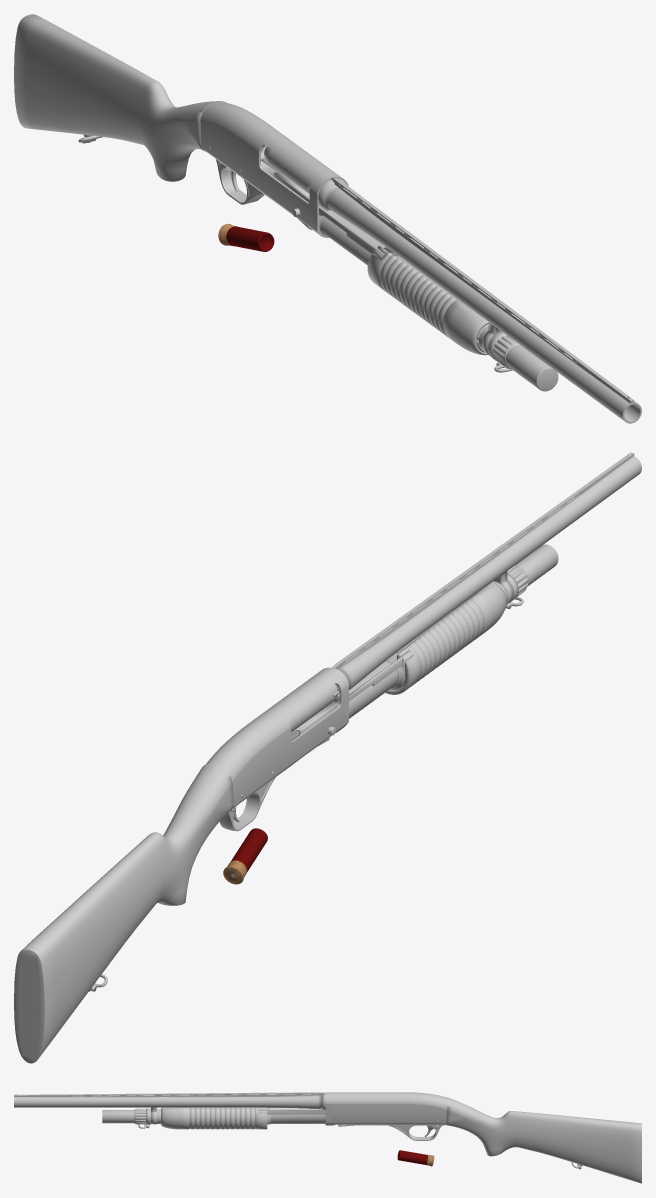
File: Shotgun.fbx
The picture shows the model from 3 angles, top to bottom: view 1: azimuth 30°, elevation 25°; view 2: azimuth 150°, elevation 25°; view 3: azimuth 270°, elevation 25°; orthographic projection. The views are drawn at different scales.
Visible parts, largest first — view 1: Object123, Object129, Object001; view 2: Object123, Object129, Object001; view 3: Object123, Object129, Object001.
Boxes of the visible parts, box(x1,y1,x2,y2) form: Object123: box(14, 14, 641, 423); Object129: box(261, 146, 488, 355); Object001: box(218, 223, 274, 251); Object123: box(14, 452, 641, 1063); Object129: box(288, 581, 506, 735); Object001: box(223, 828, 267, 884); Object123: box(14, 1092, 641, 1183); Object129: box(161, 1107, 325, 1129); Object001: box(397, 1150, 434, 1166).
Bounding box in the file's own units: 31.84 × 123 × 772.
